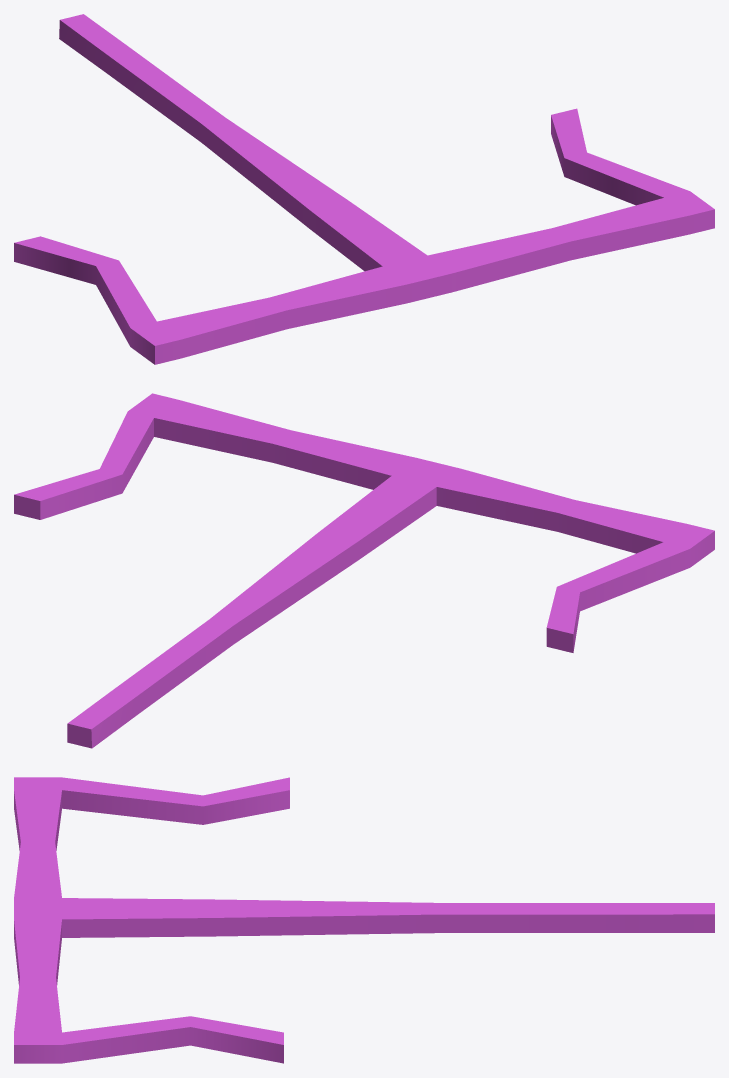
File: Rune_Prop_5_Model.fbx
3 renders of one model, top to bottom at view 1: azimuth 30°, elevation 25°; view 2: azimuth 150°, elevation 25°; view 3: azimuth 270°, elevation 25°, orthographic. The views are drawn at different scales.
Visible parts, largest first — view 1: polySurface2; view 2: polySurface2; view 3: polySurface2.
Boxes of the visible parts, left/top/right/bottom form: polySurface2: left=14, top=14, right=714, bottom=364; polySurface2: left=14, top=393, right=714, bottom=748; polySurface2: left=14, top=777, right=714, bottom=1063.
Bounding box in the file's own units: 0.6049 × 0.0195 × 0.6696.
